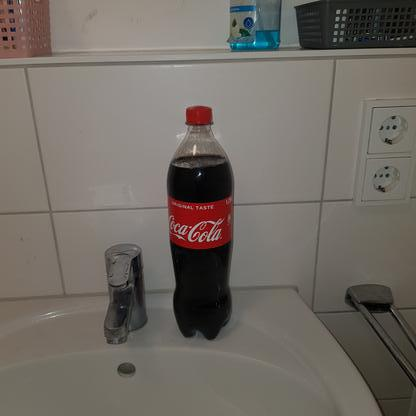coca-cola: (165, 104, 236, 341)
